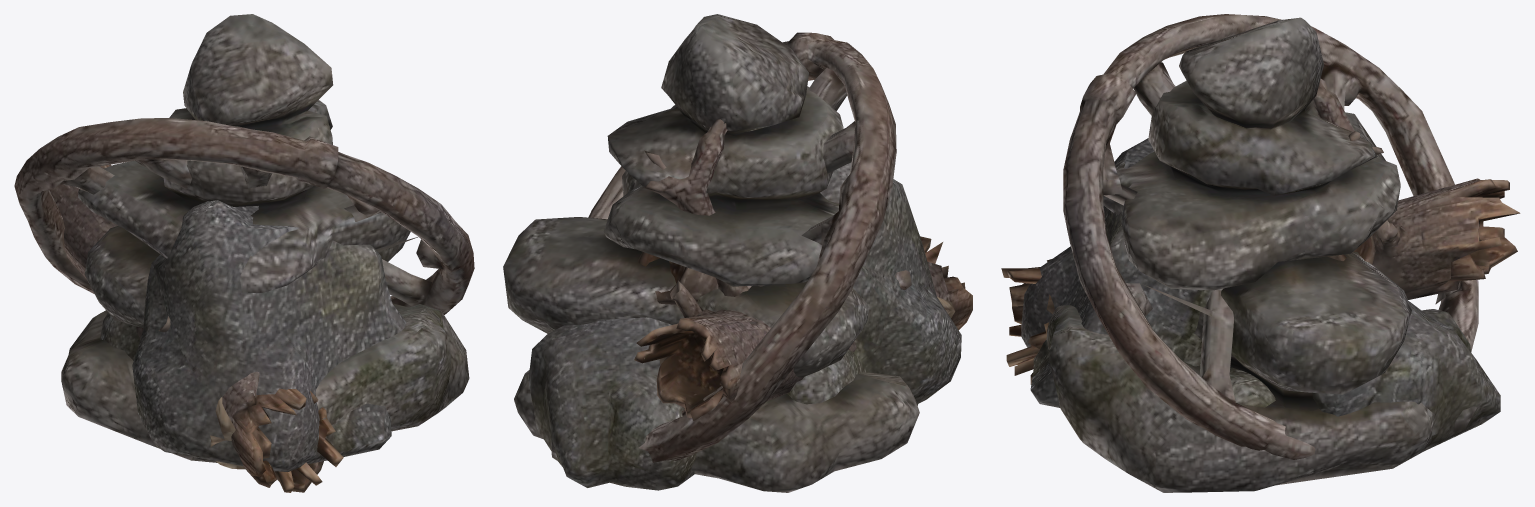
3 views of the same model, side by side, from view 1: azimuth 30°, elevation 25°; view 2: azimuth 150°, elevation 25°; view 3: azimuth 270°, elevation 25° (orthographic). The views are drawn at different scales.
Parts seen in each view (by area): view 1: cairn, boulder, wheel, log; view 2: cairn, boulder, wheel, log; view 3: cairn, wheel, boulder, log.
Boxes of the visible parts, <box> form: cairn: <box>61,14,469,462</box>; boulder: <box>100,200,406,471</box>; wheel: <box>14,118,474,469</box>; log: <box>49,164,343,492</box>; cairn: <box>503,14,919,492</box>; boulder: <box>528,162,961,490</box>; wheel: <box>588,32,957,462</box>; log: <box>634,119,972,421</box>; cairn: <box>1046,17,1476,492</box>; wheel: <box>1063,14,1478,459</box>; boulder: <box>1021,138,1500,451</box>; log: <box>1001,78,1520,384</box>.
Bounding box in the file's own units: 0.7071 × 0.7196 × 0.8505.
Materials: 1 (1 with a texture image).
